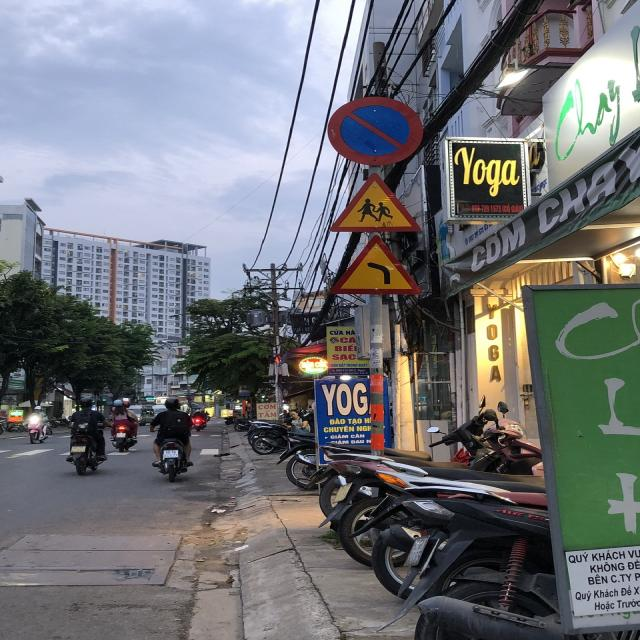Bien bao cam do xe: (322, 86, 429, 169)
Bien bao cho ngoat nguy hiem: (319, 231, 436, 298)
Bien bao tre em: (316, 167, 435, 236)
